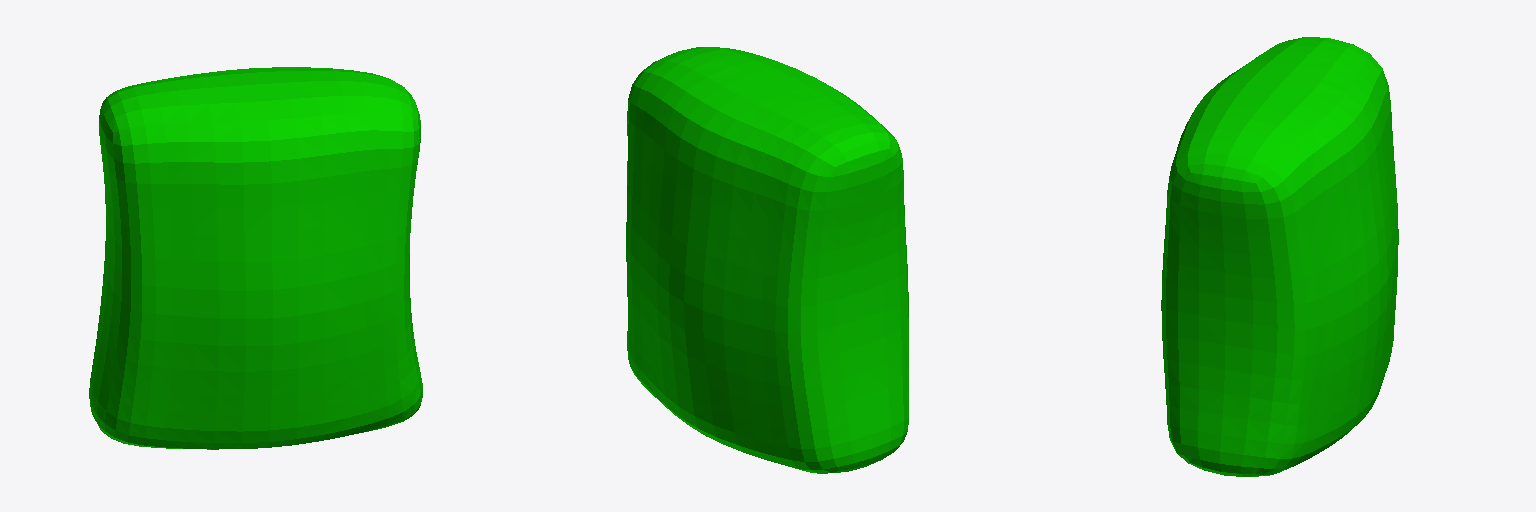
Rendered from candy-crush-candies.obj.
The picture shows the model from 3 angles: view 1: azimuth 30°, elevation 25°; view 2: azimuth 150°, elevation 25°; view 3: azimuth 270°, elevation 25°; orthographic projection.
Visible parts, largest first — view 1: Green_Stripes.001_Stripe_Green; view 2: Green_Stripes.001_Stripe_Green; view 3: Green_Stripes.001_Stripe_Green.
Boxes of the visible parts, box(x1,y1,x2,y2) form: Green_Stripes.001_Stripe_Green: box(89, 67, 422, 449); Green_Stripes.001_Stripe_Green: box(626, 47, 908, 473); Green_Stripes.001_Stripe_Green: box(1161, 37, 1398, 476).
Size of the model in its own units: 0.8637 by 0.9876 by 0.6198.